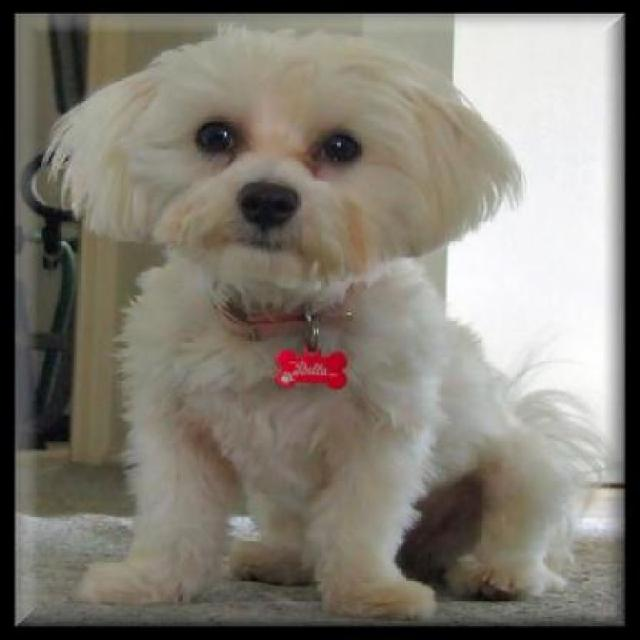Dog: (40, 20, 617, 623)
